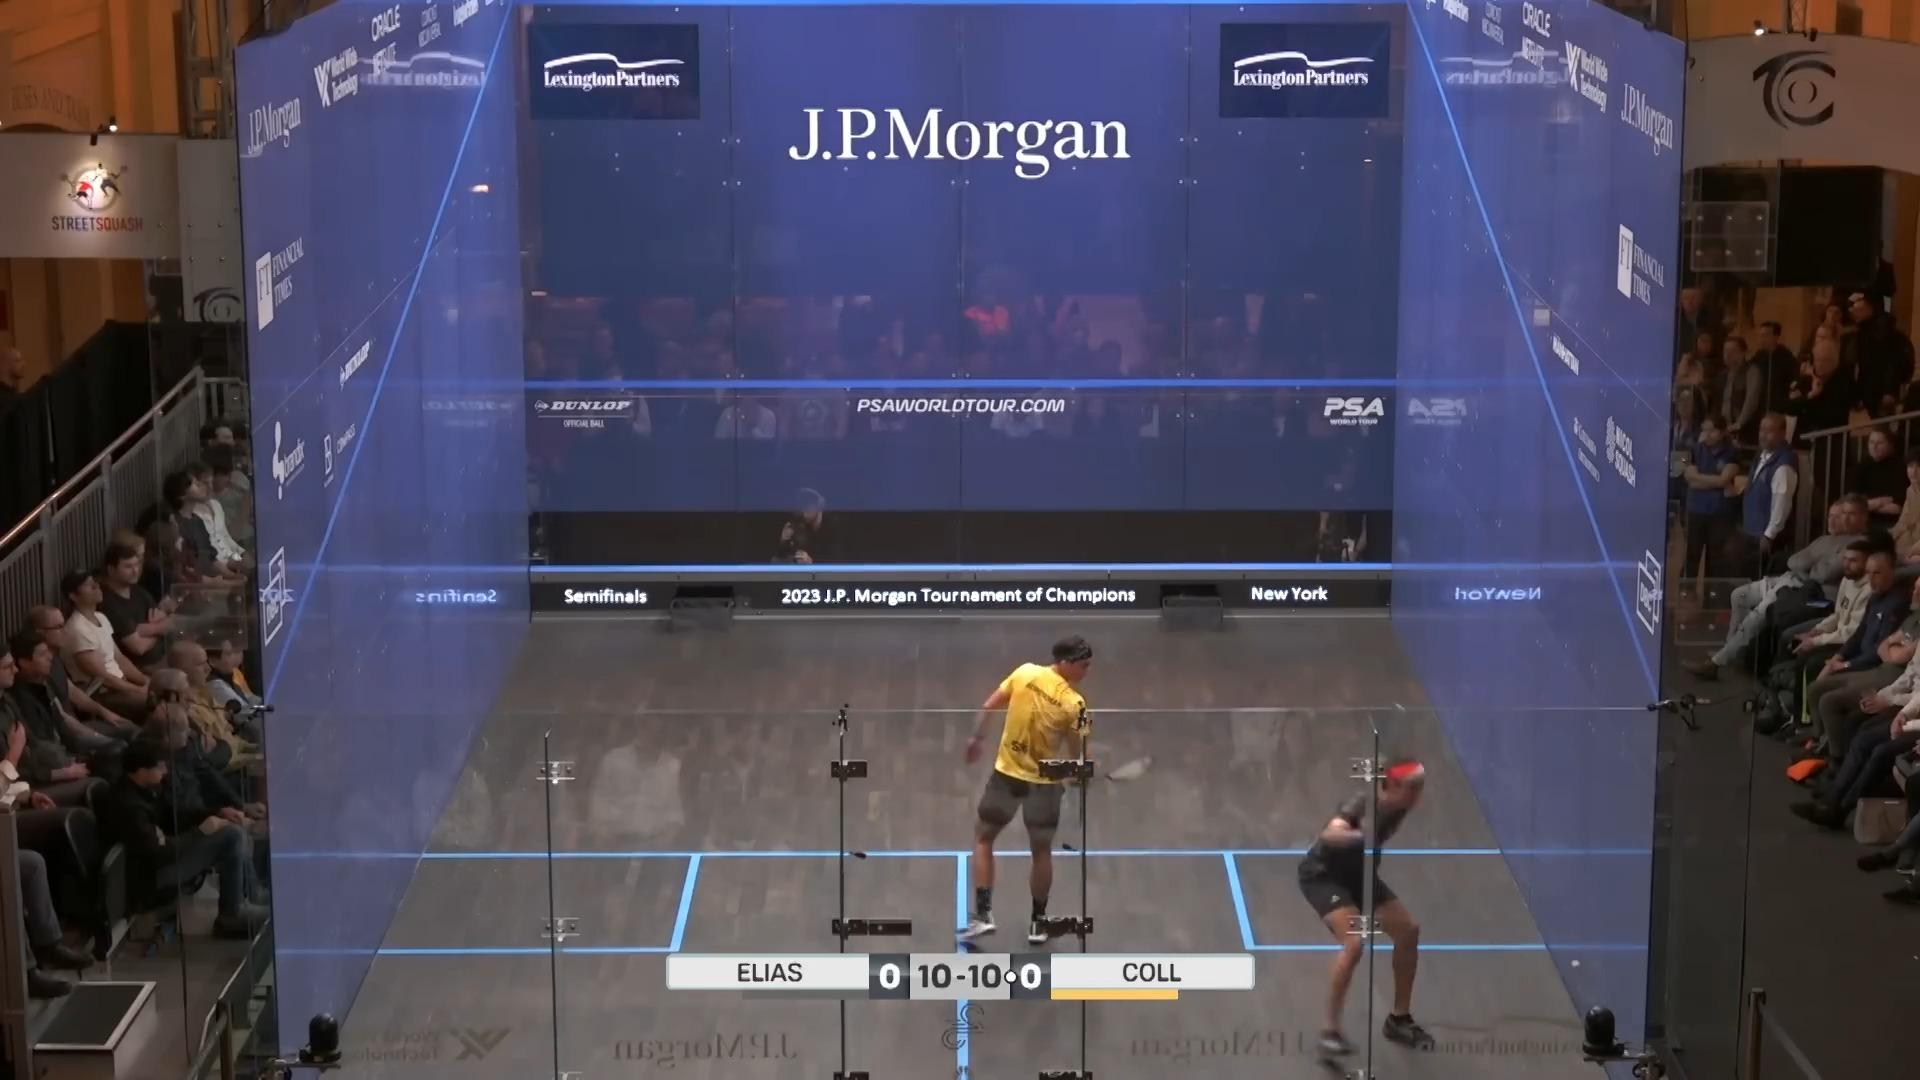Racket: (1077, 744, 1168, 787)
